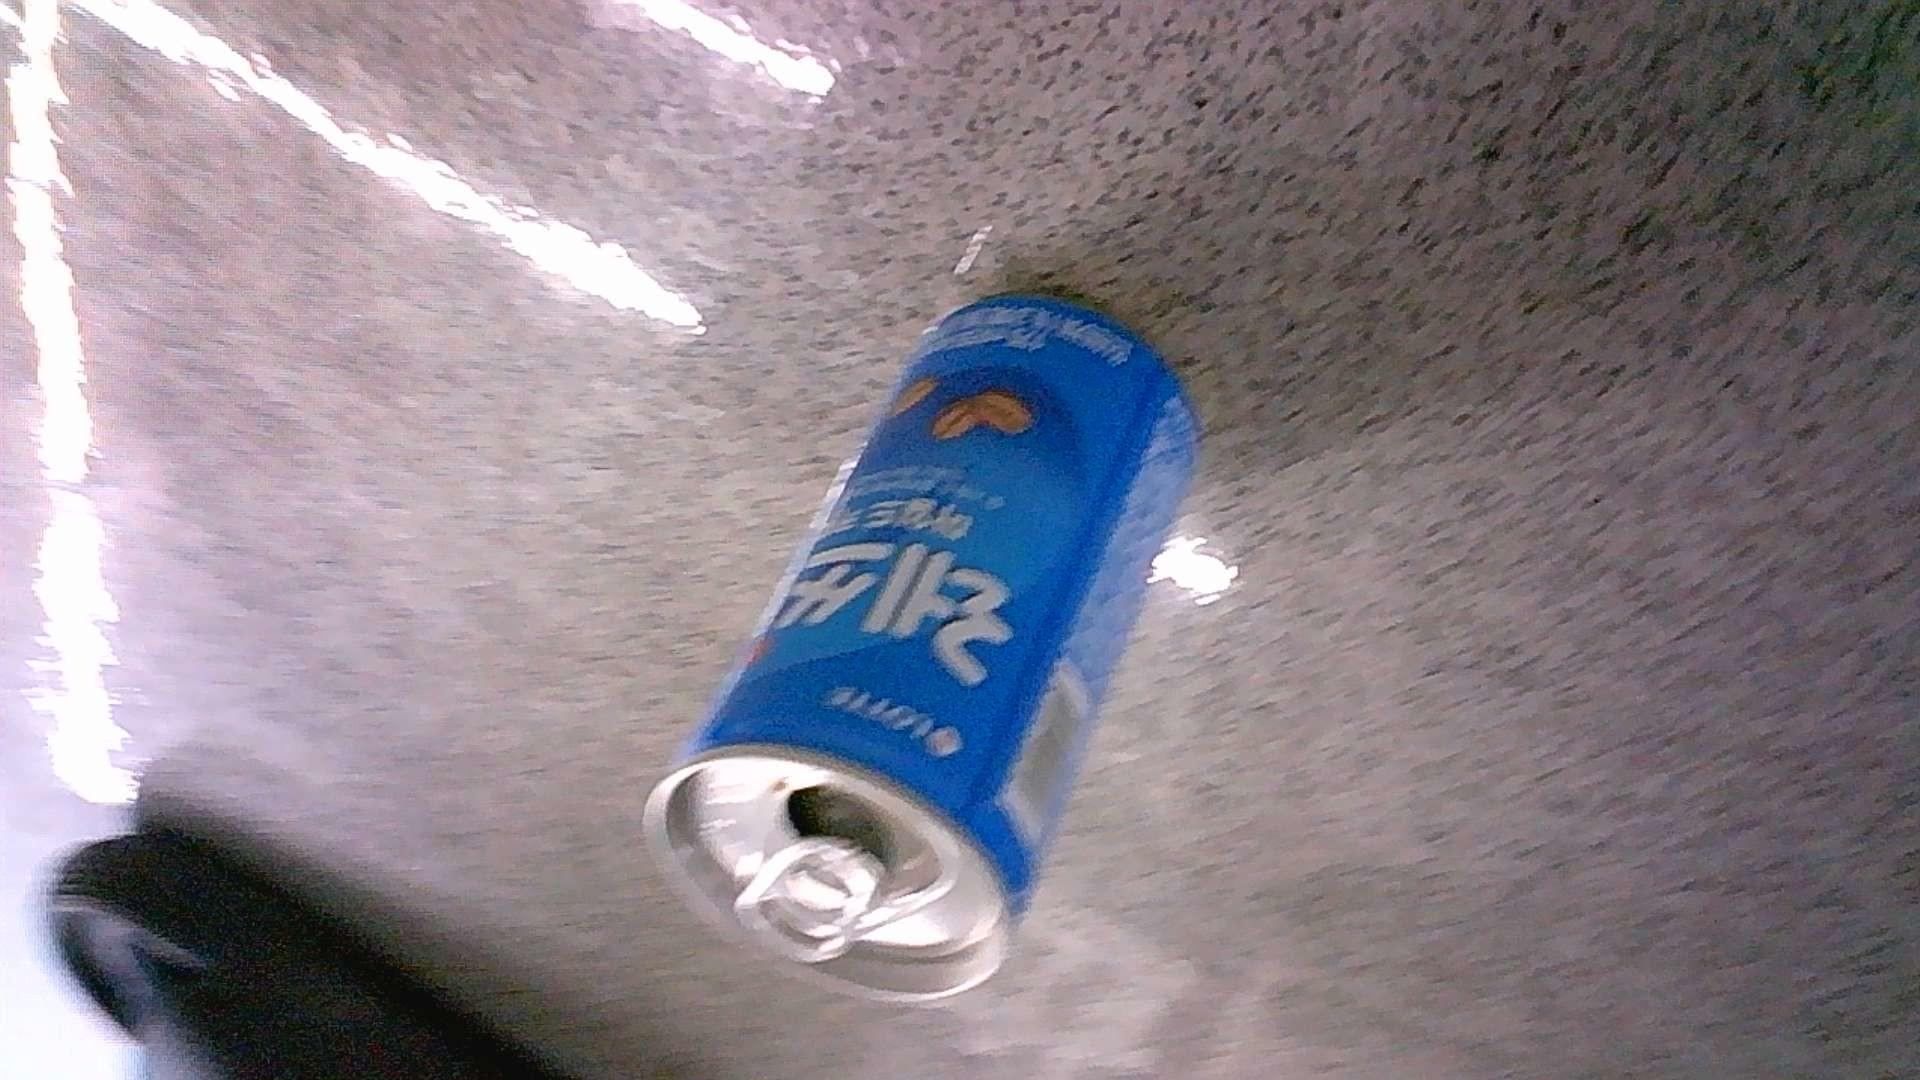letsbe: (640, 290, 1199, 1004)
